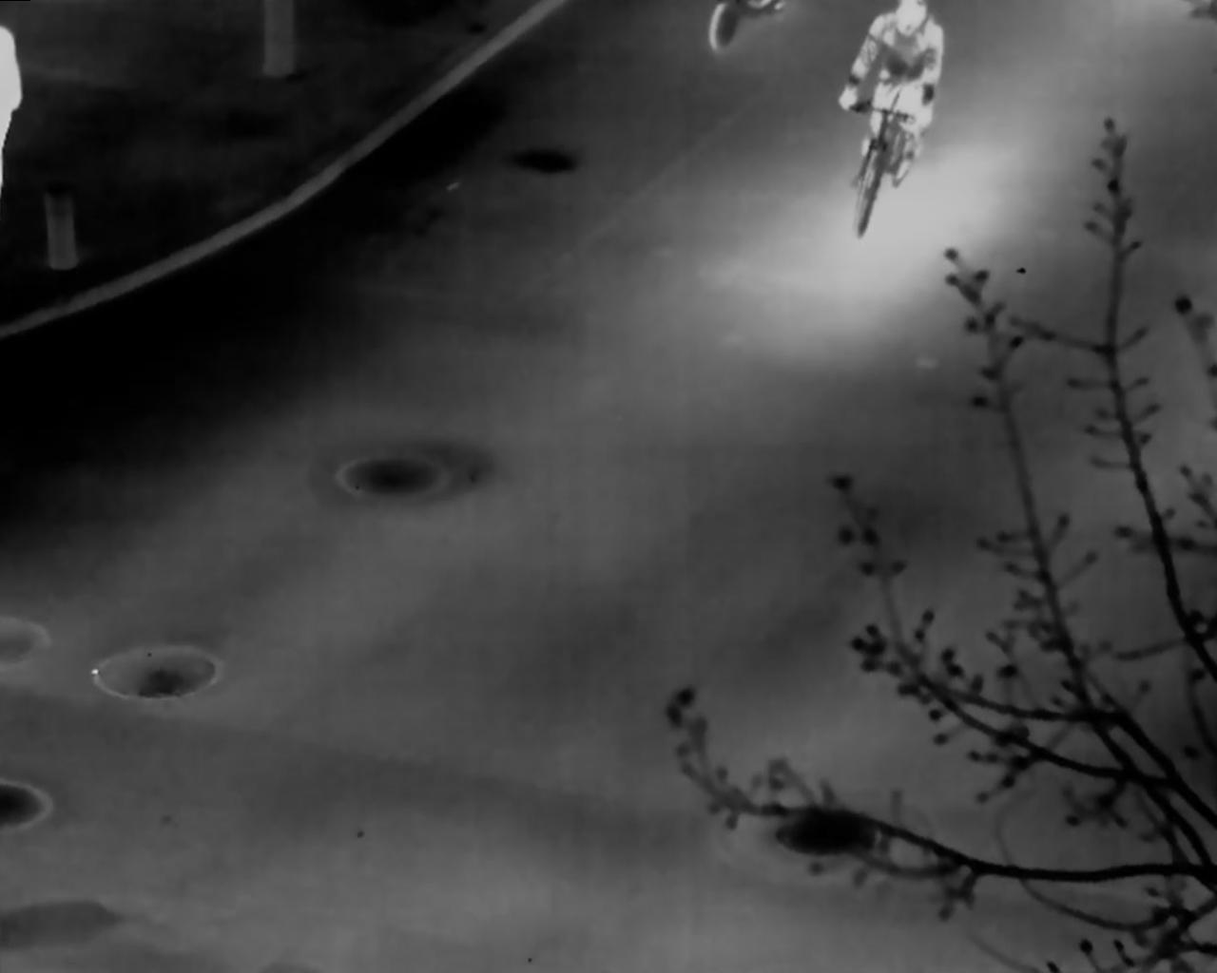person: (837, 2, 945, 171)
